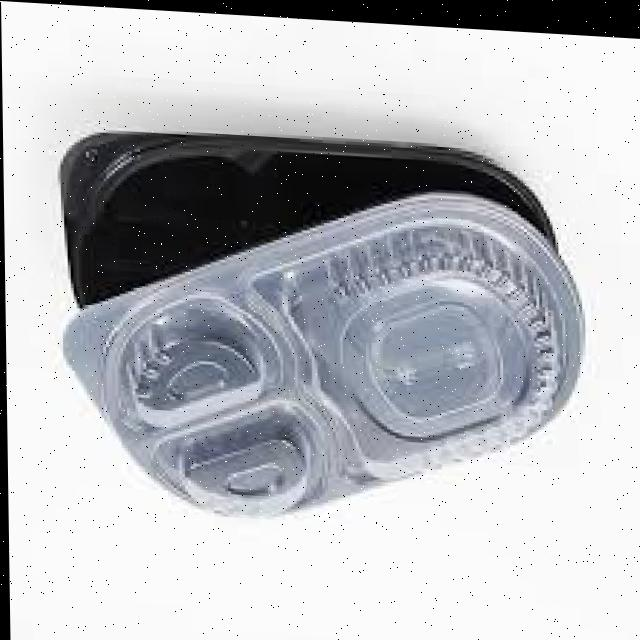disposable: (8, 88, 588, 536)
